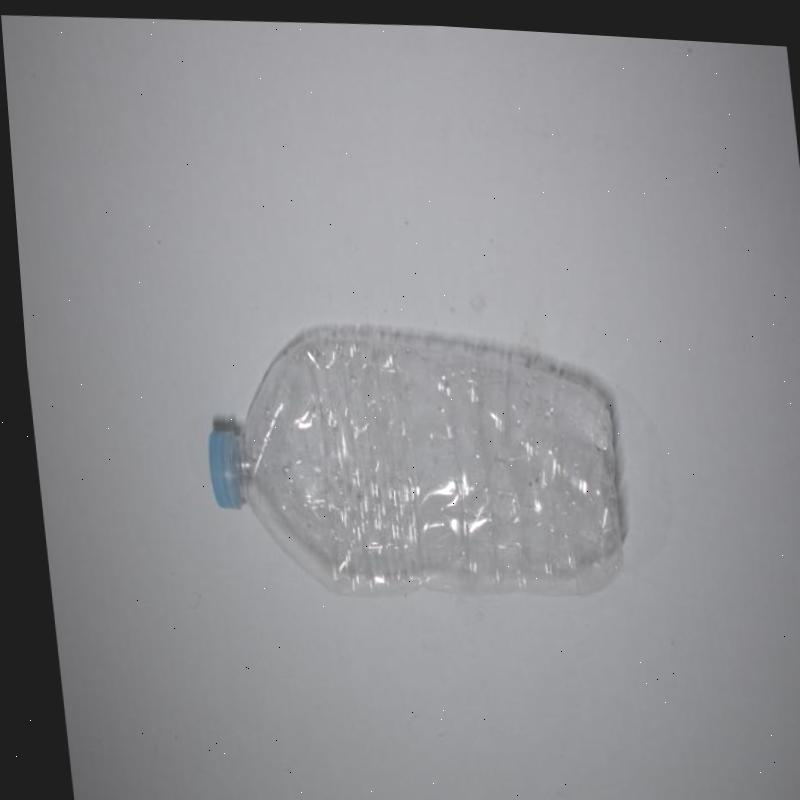botella: (188, 310, 627, 610)
